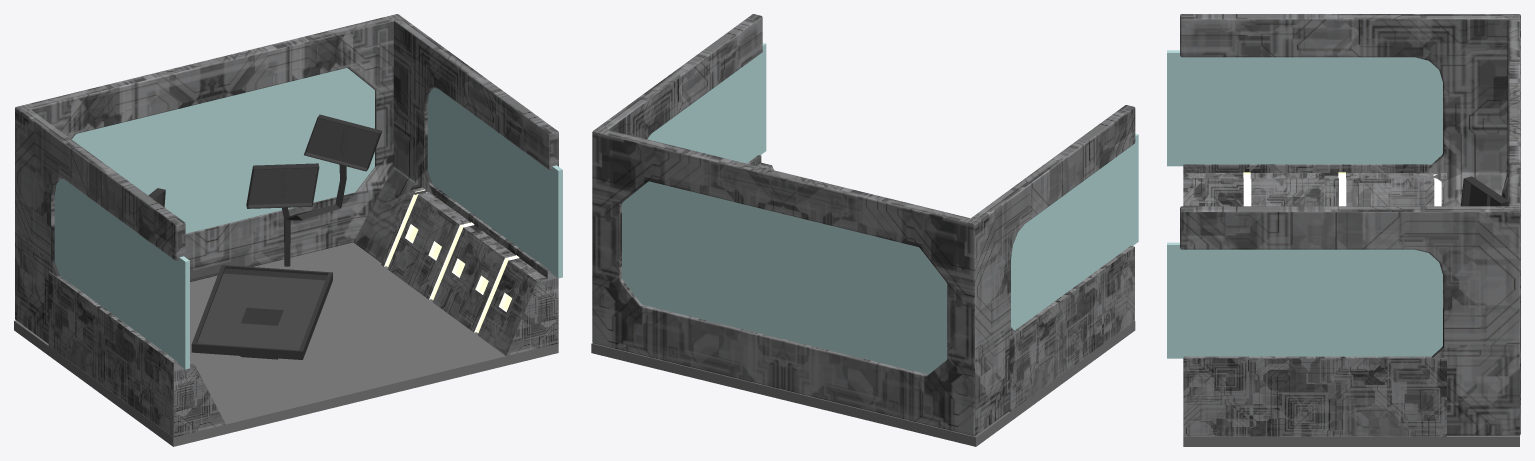
Rendered from MainMenu.fbx.
3 views of the same model, side by side, from view 1: azimuth 30°, elevation 25°; view 2: azimuth 150°, elevation 25°; view 3: azimuth 270°, elevation 25° (orthographic). The views are drawn at different scales.
Parts seen in each view (by area): view 1: Frontbar, Floor, Sidebar, Glass1, Glass2, Glass3, Table, Screen1.001, Screen1; view 2: Frontbar, Glass1, Glass3, Sidebar, Glass2, Floor; view 3: Frontbar, Sidebar, Glass3, Glass2, Floor, Screen2.
Boxes of the visible parts, x1=… form: Frontbar: x1=15, y1=14, x2=558, y2=343; Floor: x1=14, y1=242, x2=558, y2=446; Sidebar: x1=48, y1=185, x2=558, y2=437; Glass1: x1=72, y1=68, x2=374, y2=233; Glass2: x1=427, y1=88, x2=562, y2=278; Glass3: x1=54, y1=179, x2=189, y2=369; Table: x1=191, y1=265, x2=332, y2=359; Screen1.001: x1=286, y1=114, x2=382, y2=220; Screen1: x1=246, y1=163, x2=319, y2=266; Frontbar: x1=592, y1=14, x2=1135, y2=436; Glass1: x1=622, y1=181, x2=947, y2=374; Glass3: x1=1011, y1=134, x2=1138, y2=330; Sidebar: x1=747, y1=155, x2=1134, y2=411; Glass2: x1=647, y1=43, x2=766, y2=163; Floor: x1=591, y1=321, x2=1135, y2=446; Frontbar: x1=1180, y1=14, x2=1520, y2=435; Sidebar: x1=1183, y1=164, x2=1446, y2=436; Glass3: x1=1167, y1=50, x2=1442, y2=166; Glass2: x1=1167, y1=242, x2=1442, y2=358; Floor: x1=1183, y1=435, x2=1519, y2=446; Screen2: x1=1461, y1=176, x2=1508, y2=206.
Bounding box in the file's own units: 501 × 277 × 377.
